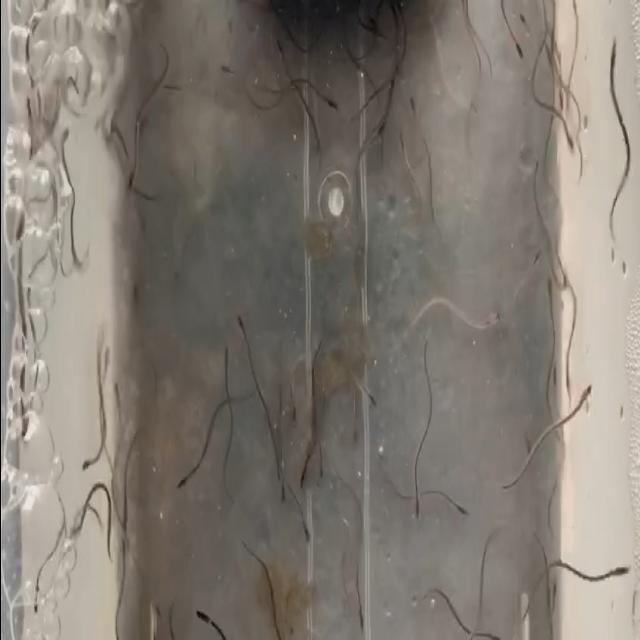active_glass_eel: (224, 301, 251, 346), (170, 459, 196, 499), (108, 369, 126, 423), (192, 590, 210, 640), (26, 574, 46, 618), (609, 540, 628, 582), (402, 84, 424, 120), (360, 380, 378, 422), (80, 430, 96, 476), (541, 266, 556, 314), (346, 590, 364, 629), (390, 120, 410, 154), (299, 517, 318, 551), (324, 86, 341, 124), (578, 382, 598, 411), (484, 294, 500, 330), (456, 496, 474, 524), (510, 40, 527, 68), (268, 38, 286, 63), (406, 496, 422, 524), (557, 127, 575, 151), (124, 168, 142, 192), (526, 240, 540, 270), (117, 539, 131, 569), (286, 402, 302, 428), (307, 332, 325, 355), (274, 476, 288, 504), (218, 64, 235, 84), (606, 38, 622, 58), (58, 130, 74, 148), (314, 461, 326, 483)
